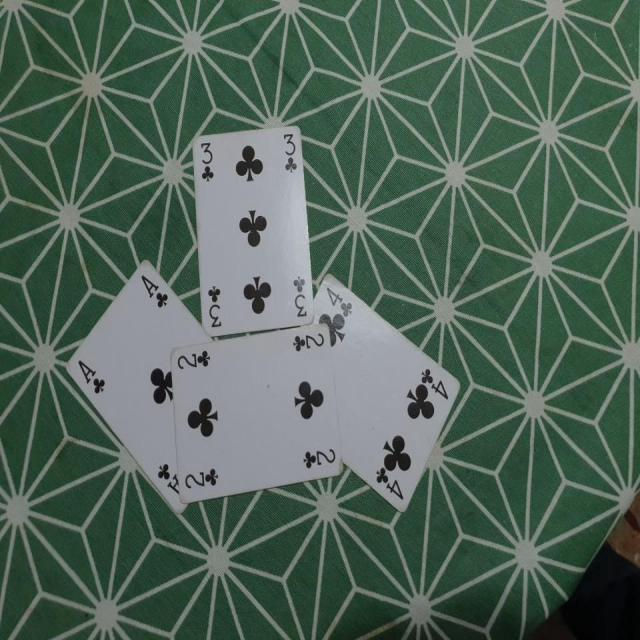2 Trefoils: (168, 322, 344, 506)
3 Trefoils: (191, 123, 315, 336)
4 Trefoils: (315, 271, 463, 514)
A Trefoils: (65, 254, 213, 513)
